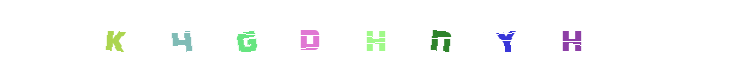4: (157, 0, 237, 80)
D: (269, 0, 349, 80)
G: (265, 0, 345, 80)
H: (325, 0, 405, 80), (531, 0, 611, 80)
K: (74, 0, 154, 80)
N: (400, 0, 480, 80)
Y: (466, 0, 546, 80)
